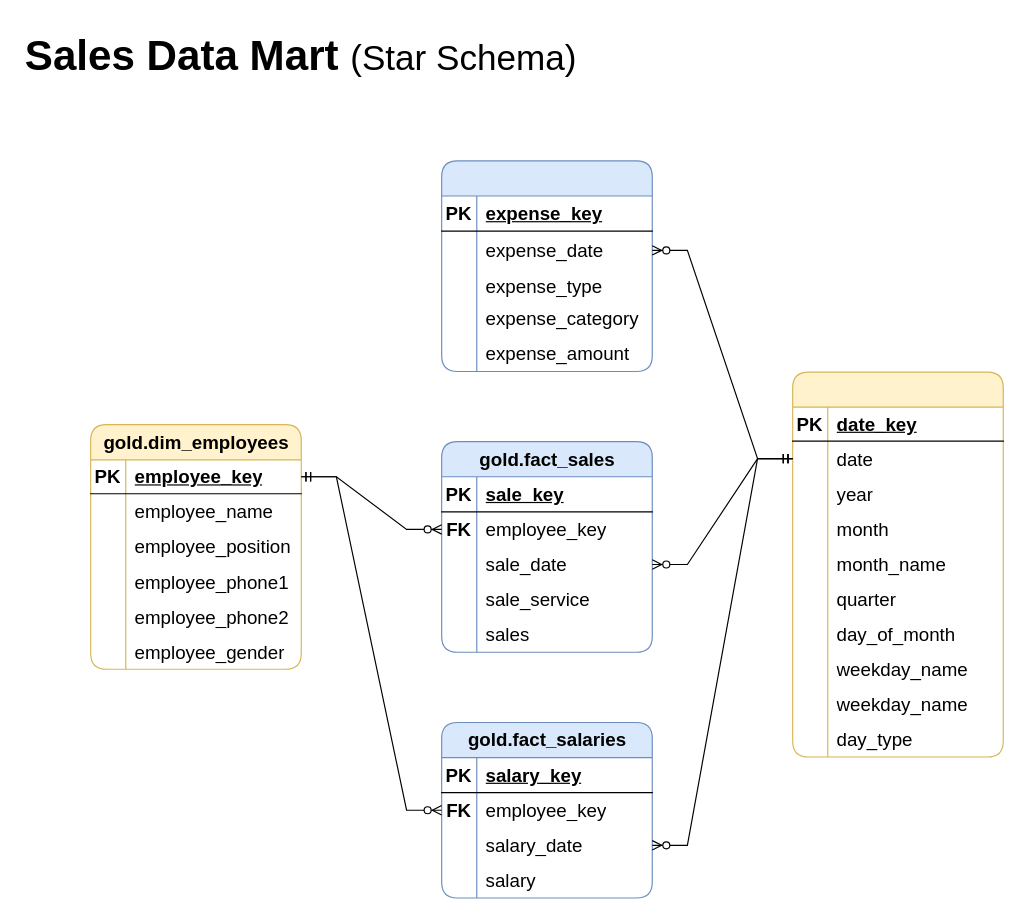
Some shapes in this 1024 by 918 pixel diagram are drawn without their labels. The box of each missing label's shape, as (x1, y1, x2, y2) in pixels:
gold.dim_date: (792, 371, 1003, 757)
gold.fact_expenses: (441, 160, 652, 371)
